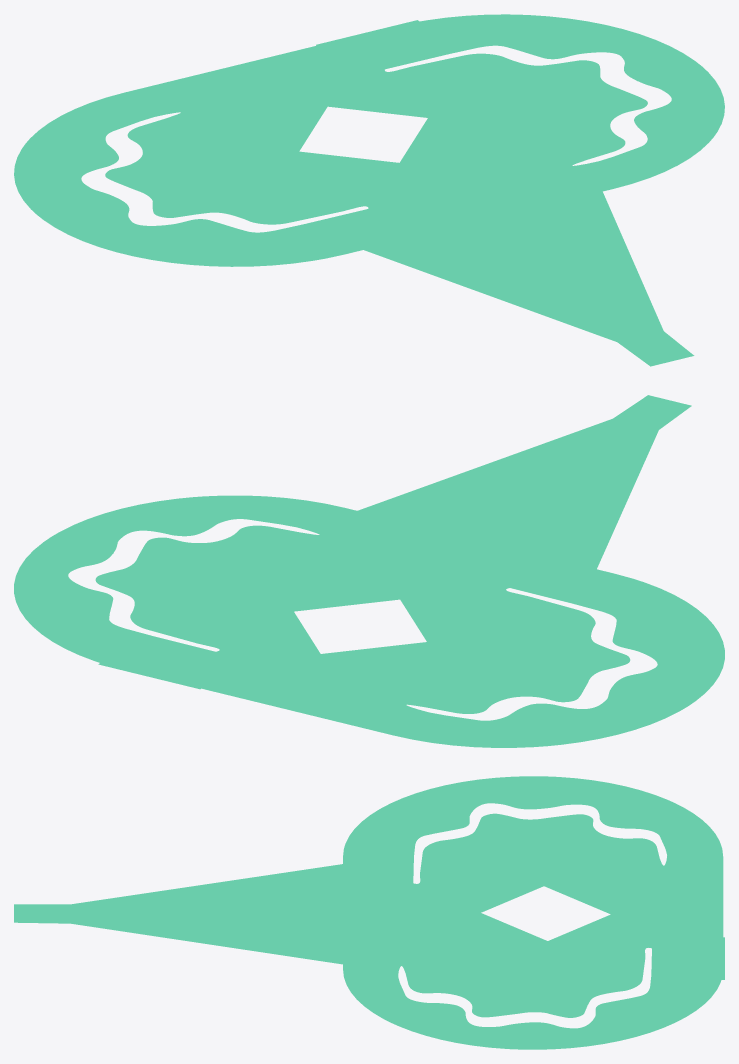
The model's file is map.glb.
3 renders of one model, top to bottom at view 1: azimuth 30°, elevation 25°; view 2: azimuth 150°, elevation 25°; view 3: azimuth 270°, elevation 25°, orthographic. The views are drawn at different scales.
Visible parts, largest first — view 1: Plane; view 2: Plane; view 3: Plane.
Boxes of the visible parts, x1,y1,x2,y2 form: Plane: (14, 14, 724, 366); Plane: (14, 395, 724, 747); Plane: (14, 776, 724, 1049).
Size of the model in its own units: 42.99 by 7.81e-10 by 47.22.
